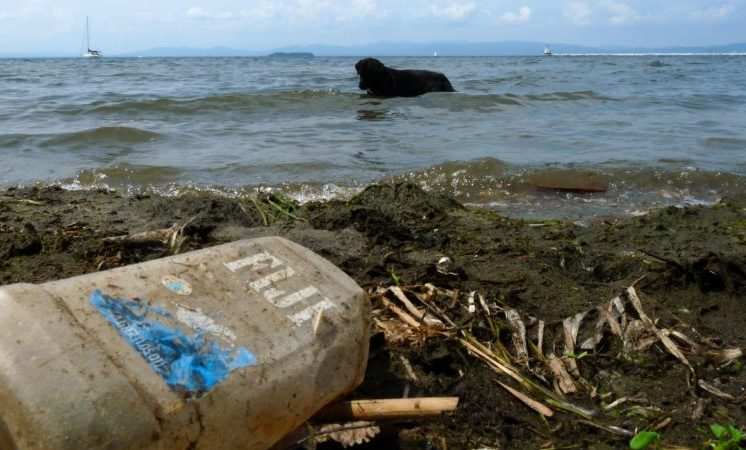litter: (1, 241, 389, 448)
